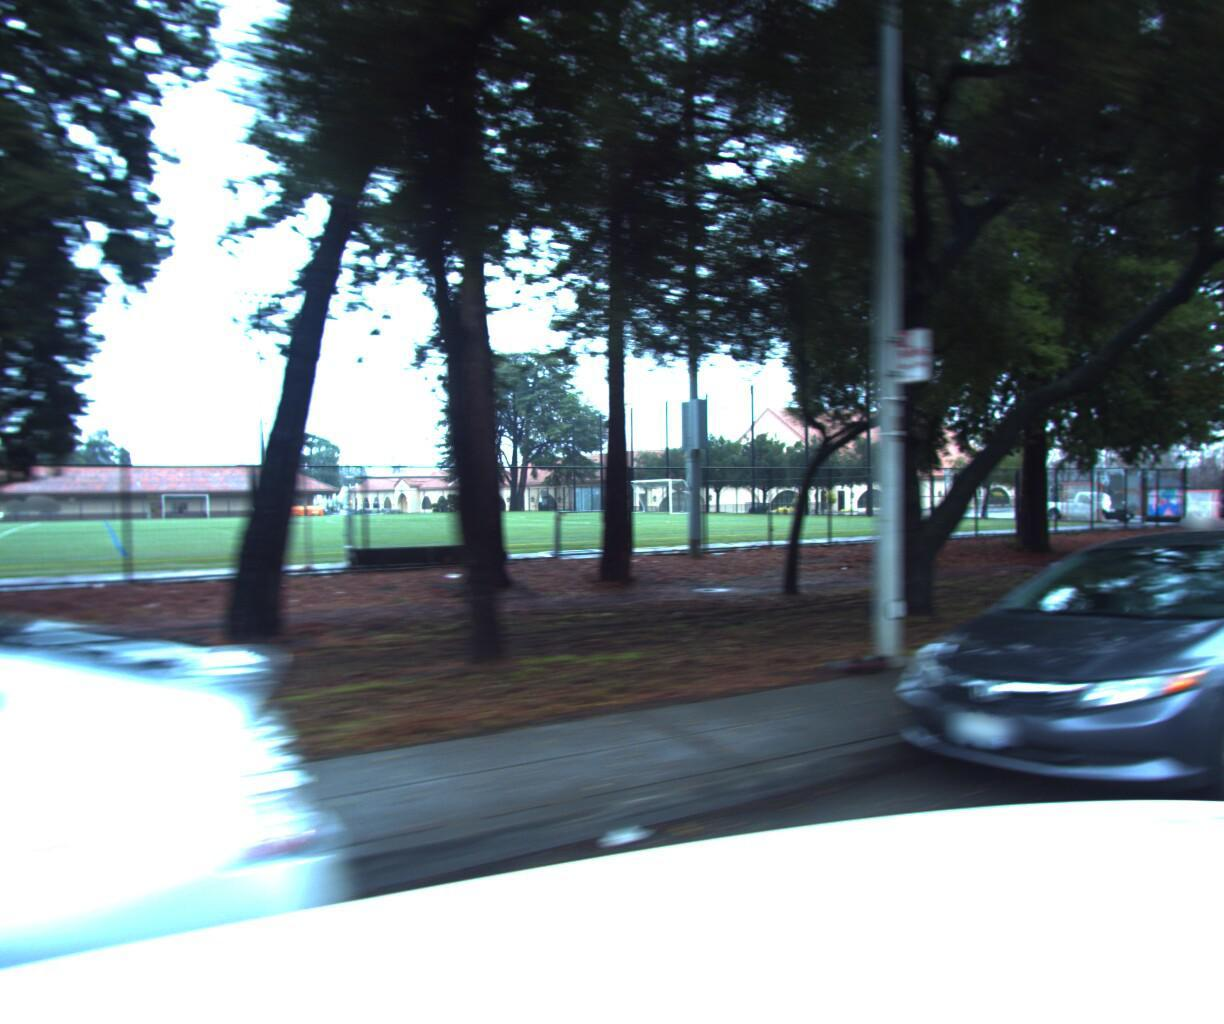car: (847, 505, 1224, 902), (1037, 480, 1146, 519)
